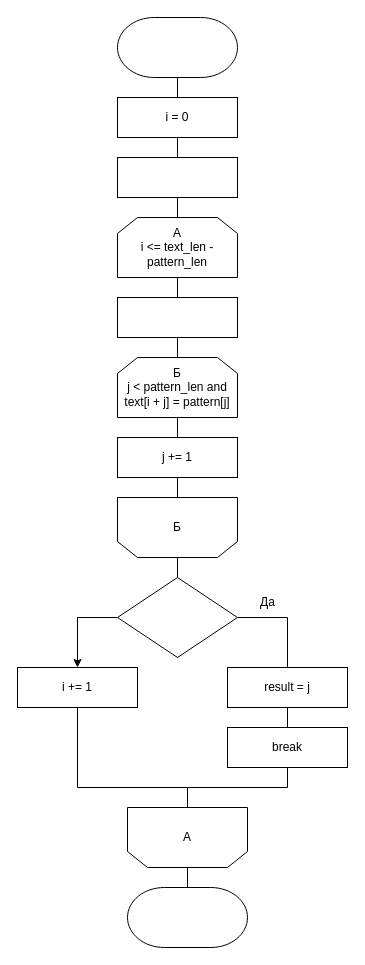
Some shapes in this 365 by 965 pixel diagram are drawn without their labels. Here are the shapes that lost their labels. From the top down, the box of each, then its label:
(116, 16, 238, 78): Начало
(116, 156, 238, 198): result = 0
(116, 296, 238, 338): j = 0
(116, 576, 238, 658): j = pattern_len
(126, 886, 248, 948): Конец
